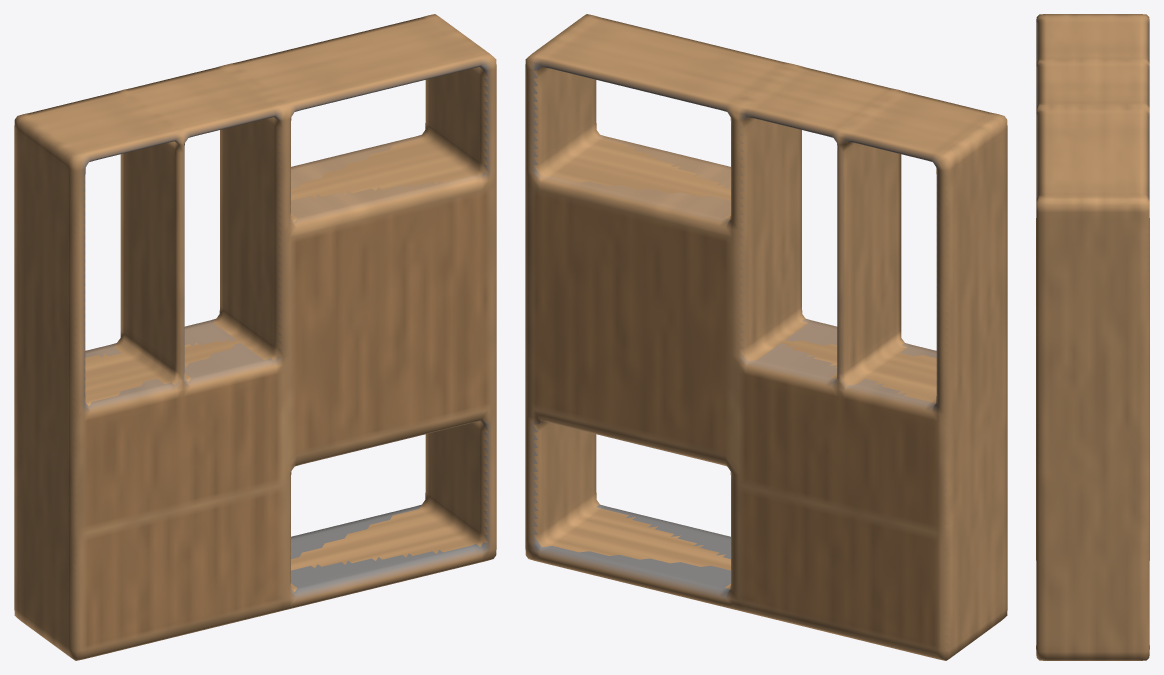
The model's file is stack3.glb.
3 views of the same model, side by side, from view 1: azimuth 30°, elevation 25°; view 2: azimuth 150°, elevation 25°; view 3: azimuth 270°, elevation 25° (orthographic). The views are drawn at different scales.
Size of the model in its own units: 1.26 by 1.43 by 0.32.
Materials: 1 (1 with a texture image).
